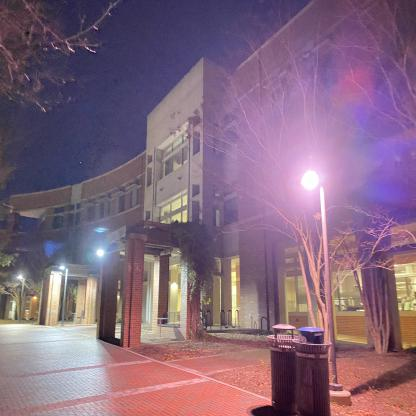eb2: (9, 53, 415, 337)
